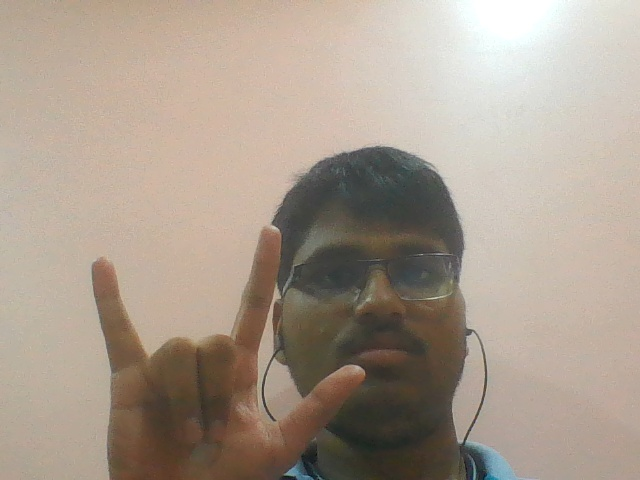iloveyou: (66, 221, 365, 480)
